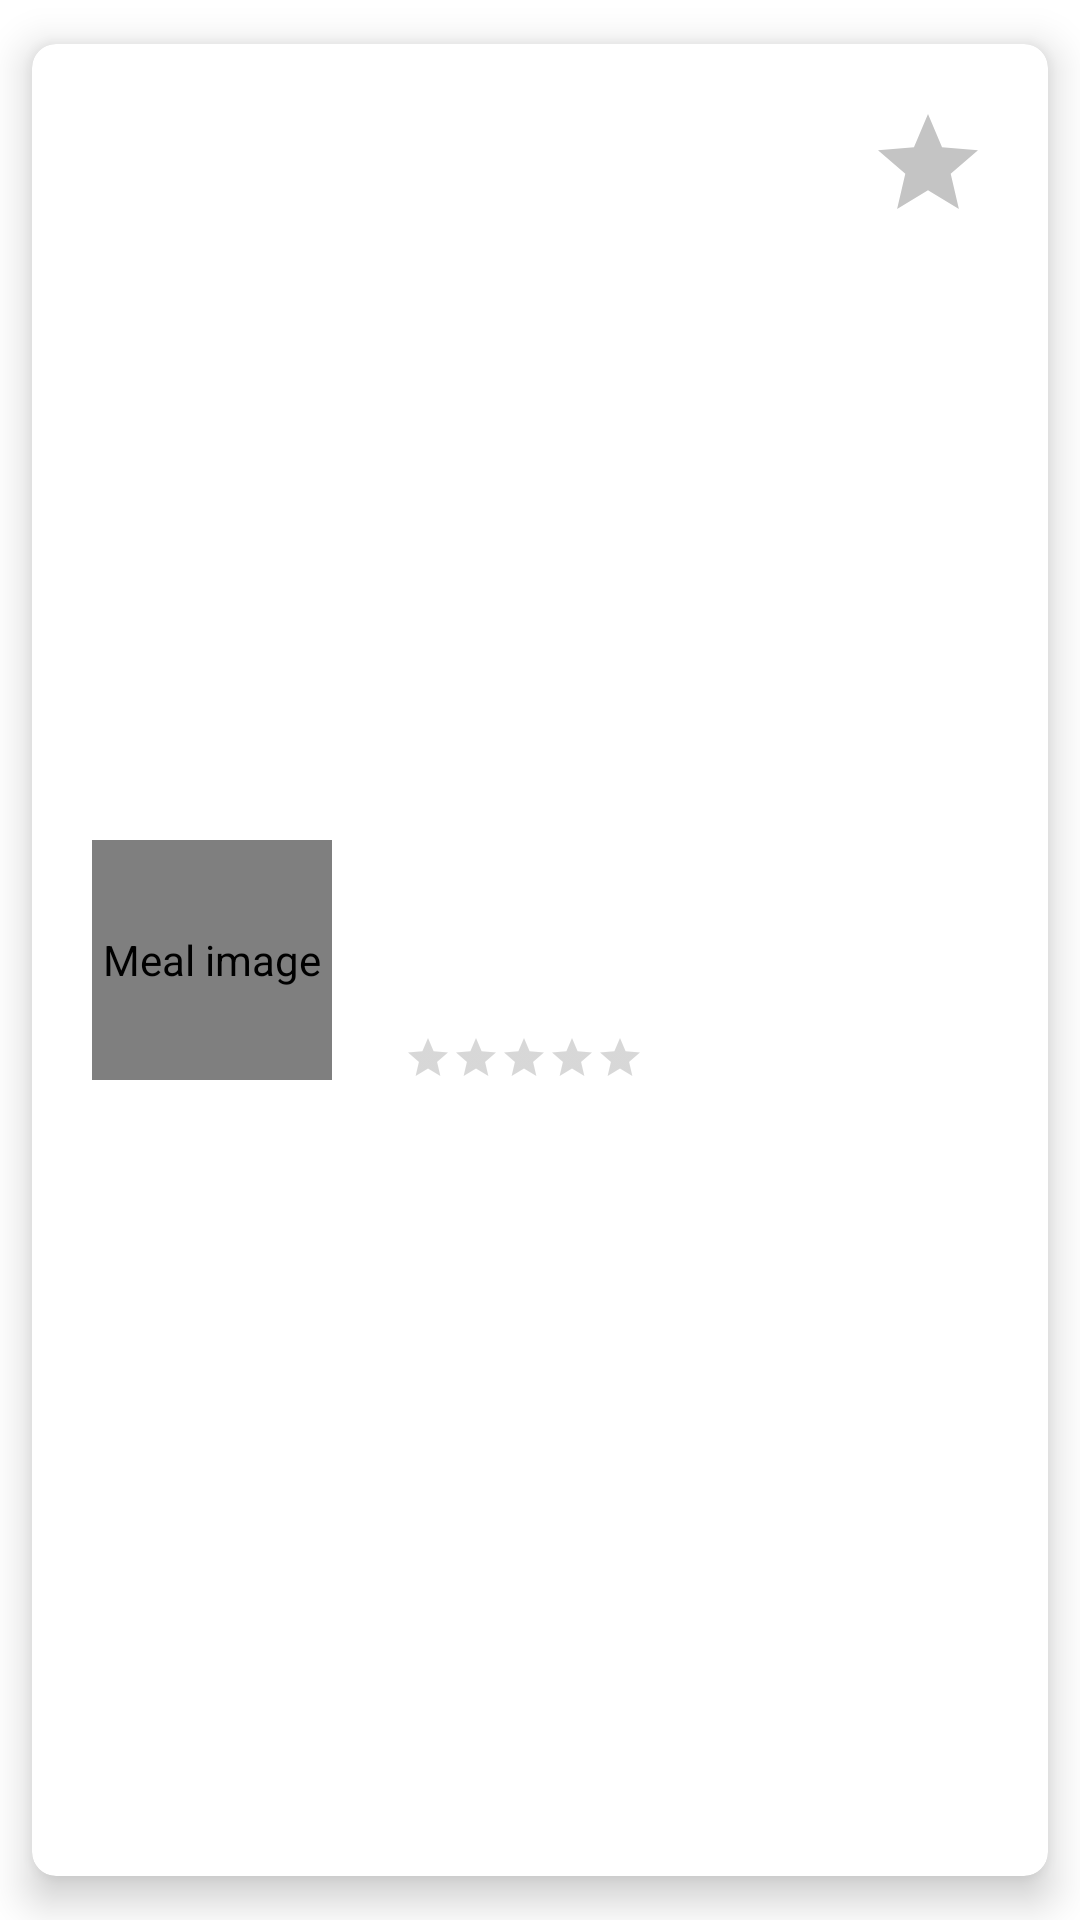

Named icons in this screenshot (1080w x 1920h) and their bounding boxes, (x1, y1, x2, y2):
star: (878, 115, 978, 209)
